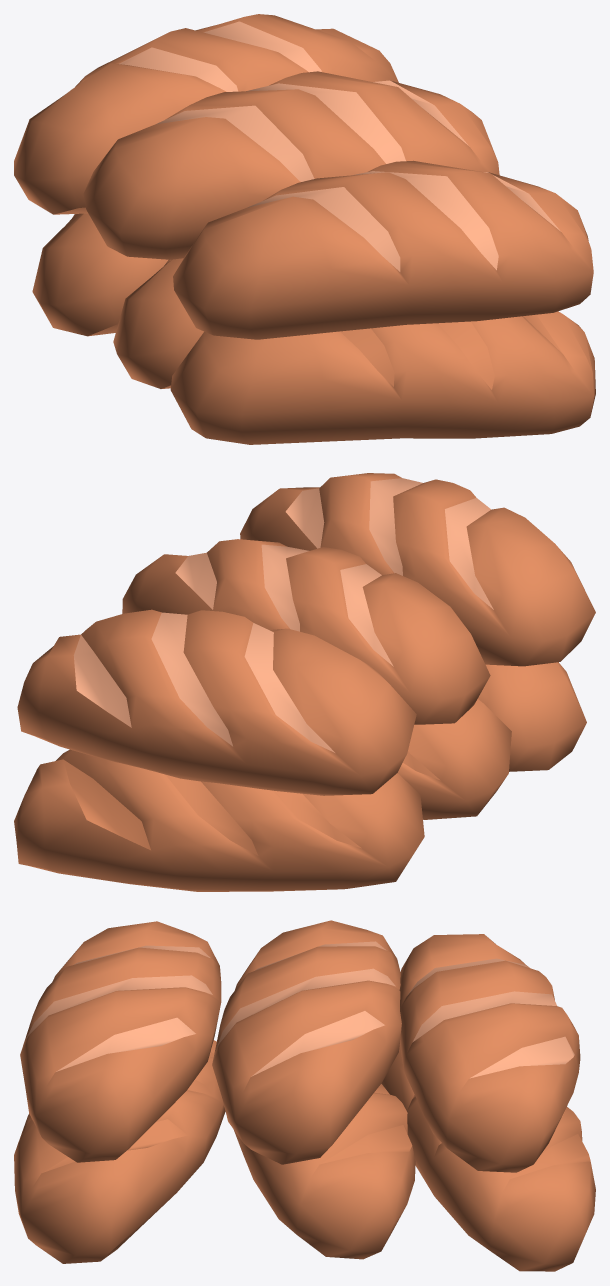
Rendered from buns.fbx.
3 views of the same model, one above another, from view 1: azimuth 30°, elevation 25°; view 2: azimuth 150°, elevation 25°; view 3: azimuth 270°, elevation 25° (orthographic). The views are drawn at different scales.
Visible parts, largest first — view 1: DrawCall_85; view 2: DrawCall_85; view 3: DrawCall_85.
Boxes of the visible parts, left/top/right/bottom form: DrawCall_85: left=14, top=14, right=595, bottom=444; DrawCall_85: left=14, top=473, right=595, bottom=891; DrawCall_85: left=14, top=920, right=595, bottom=1271.
Size of the model in its own units: 124 by 83.51 by 179.
